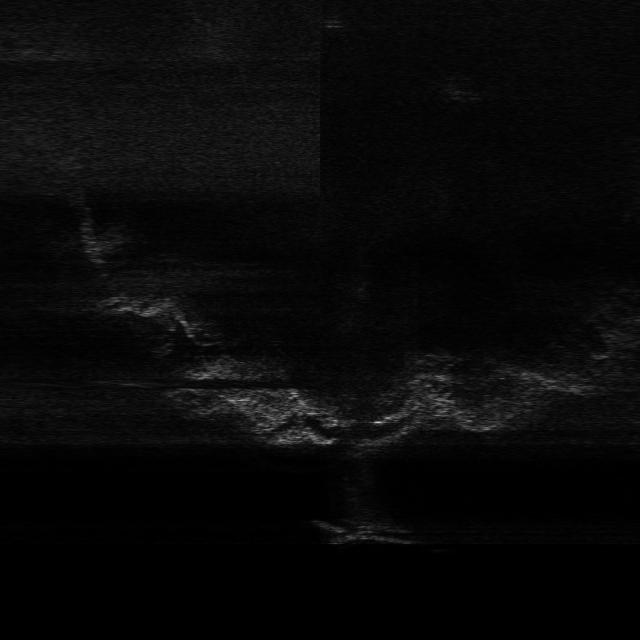plane: (312, 516, 426, 548)
